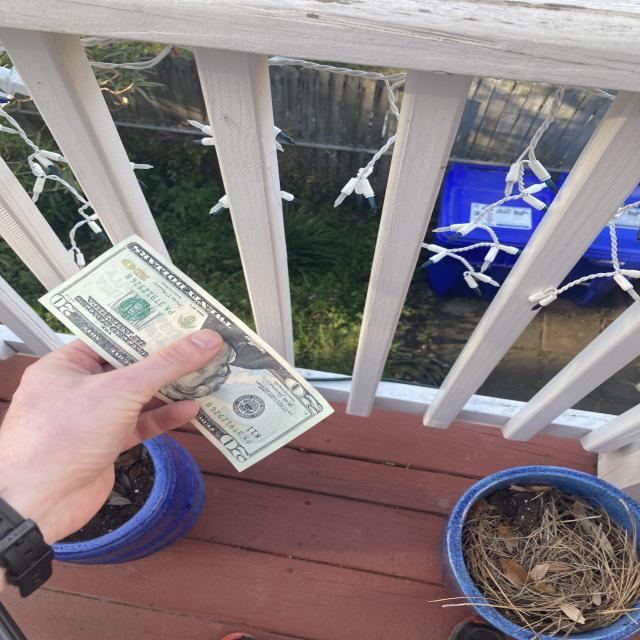twenty: (34, 212, 341, 496)
